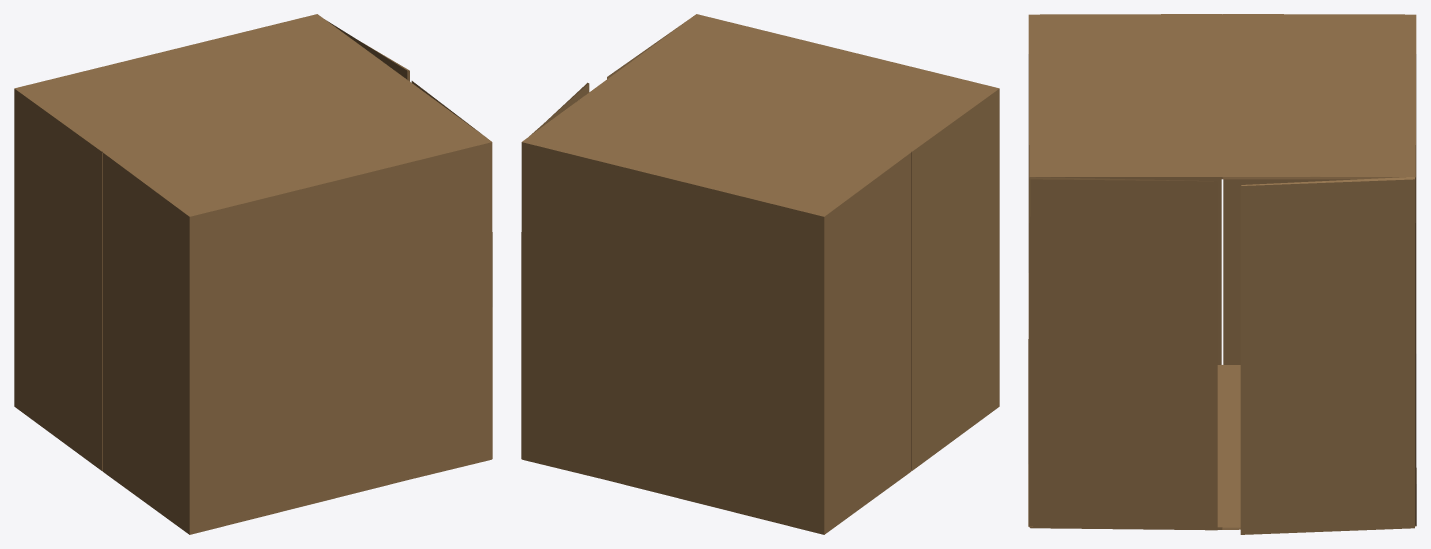
File: AlmostClosedBox.fbx
3 views of the same model, side by side, from view 1: azimuth 30°, elevation 25°; view 2: azimuth 150°, elevation 25°; view 3: azimuth 270°, elevation 25° (orthographic). The views are drawn at different scales.
Visible parts, largest first — view 1: Cube.001; view 2: Cube.001; view 3: Cube.001.
Part boxes in pixels (x1,y1,x2,y2): Cube.001: [14, 14, 492, 534]; Cube.001: [521, 14, 999, 534]; Cube.001: [1028, 14, 1416, 534].
Size of the model in its own units: 148 by 143 by 142.
